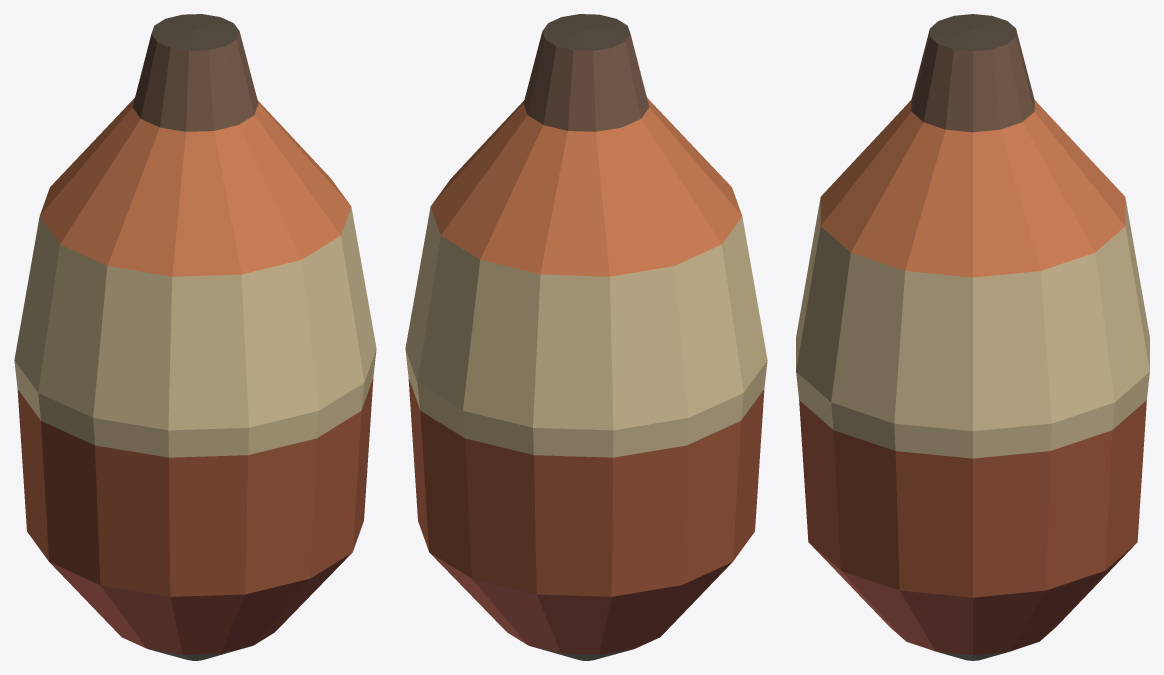
The model's file is cork_float.glb.
The picture shows the model from 3 angles, left to right: view 1: azimuth 30°, elevation 25°; view 2: azimuth 150°, elevation 25°; view 3: azimuth 270°, elevation 25°; orthographic projection.
Parts seen in each view (by area): view 1: cork_float; view 2: cork_float; view 3: cork_float.
Boxes of the visible parts, bbox=[...] form: cork_float: bbox=[14, 14, 376, 660]; cork_float: bbox=[405, 14, 767, 660]; cork_float: bbox=[796, 14, 1149, 660].
Size of the model in its own units: 0.23 by 0.437 by 0.2242.
